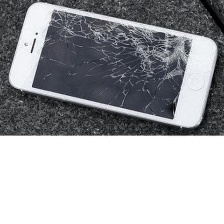phone: (6, 0, 220, 132)
